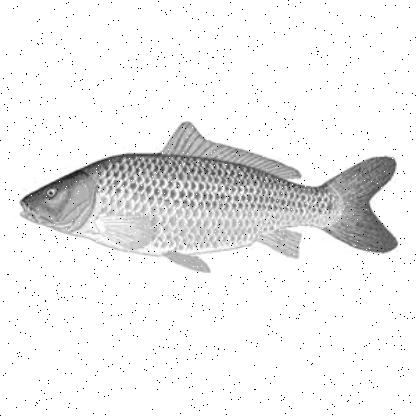ikan-mas: (19, 140, 401, 264)
